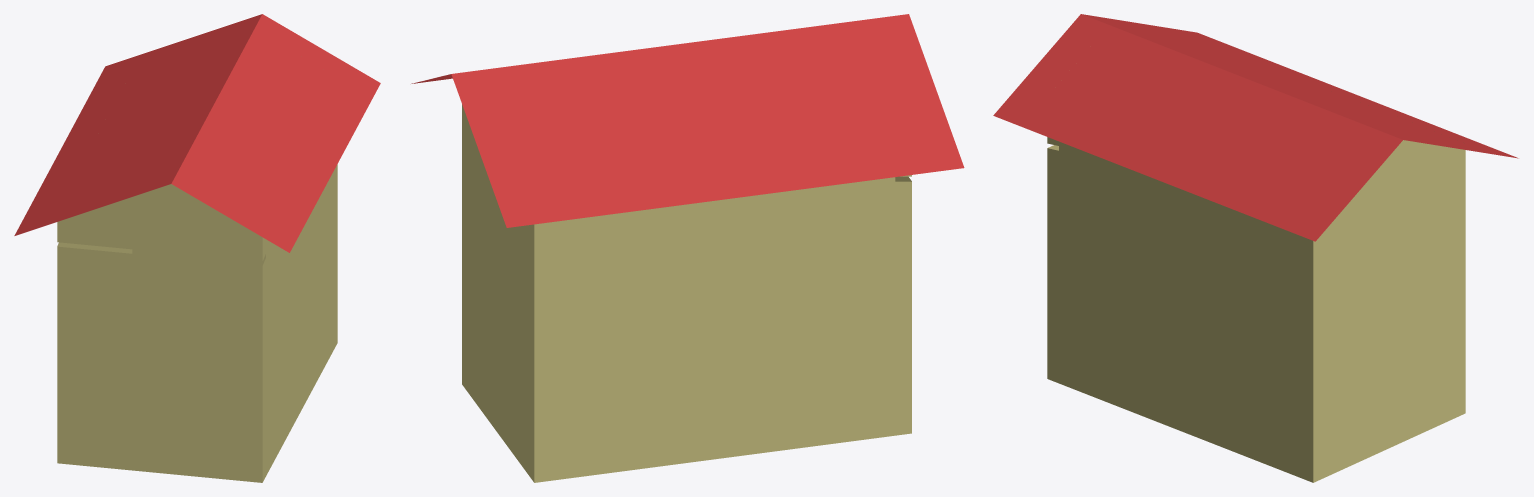
3 renders of one model, left to right at view 1: azimuth 30°, elevation 25°; view 2: azimuth 150°, elevation 25°; view 3: azimuth 270°, elevation 25°, orthographic. The views are drawn at different scales.
Bounding box in the file's own units: 10.14 × 10.29 × 7.02.
